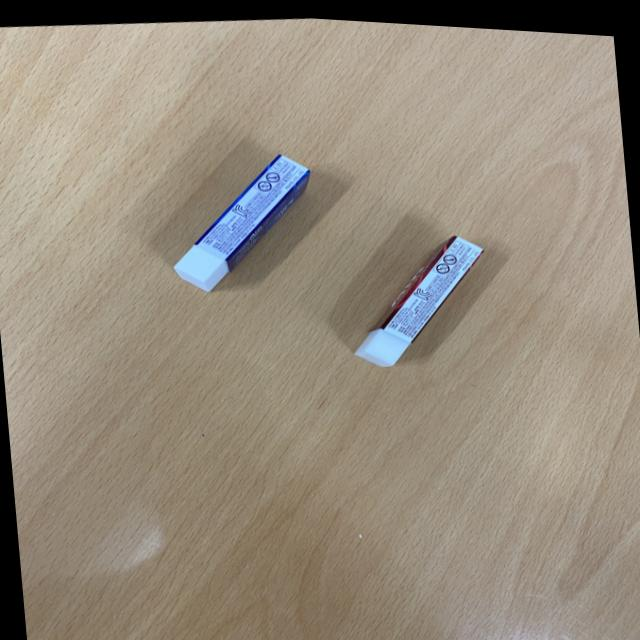blue: (162, 137, 324, 299)
red: (344, 218, 496, 371)
